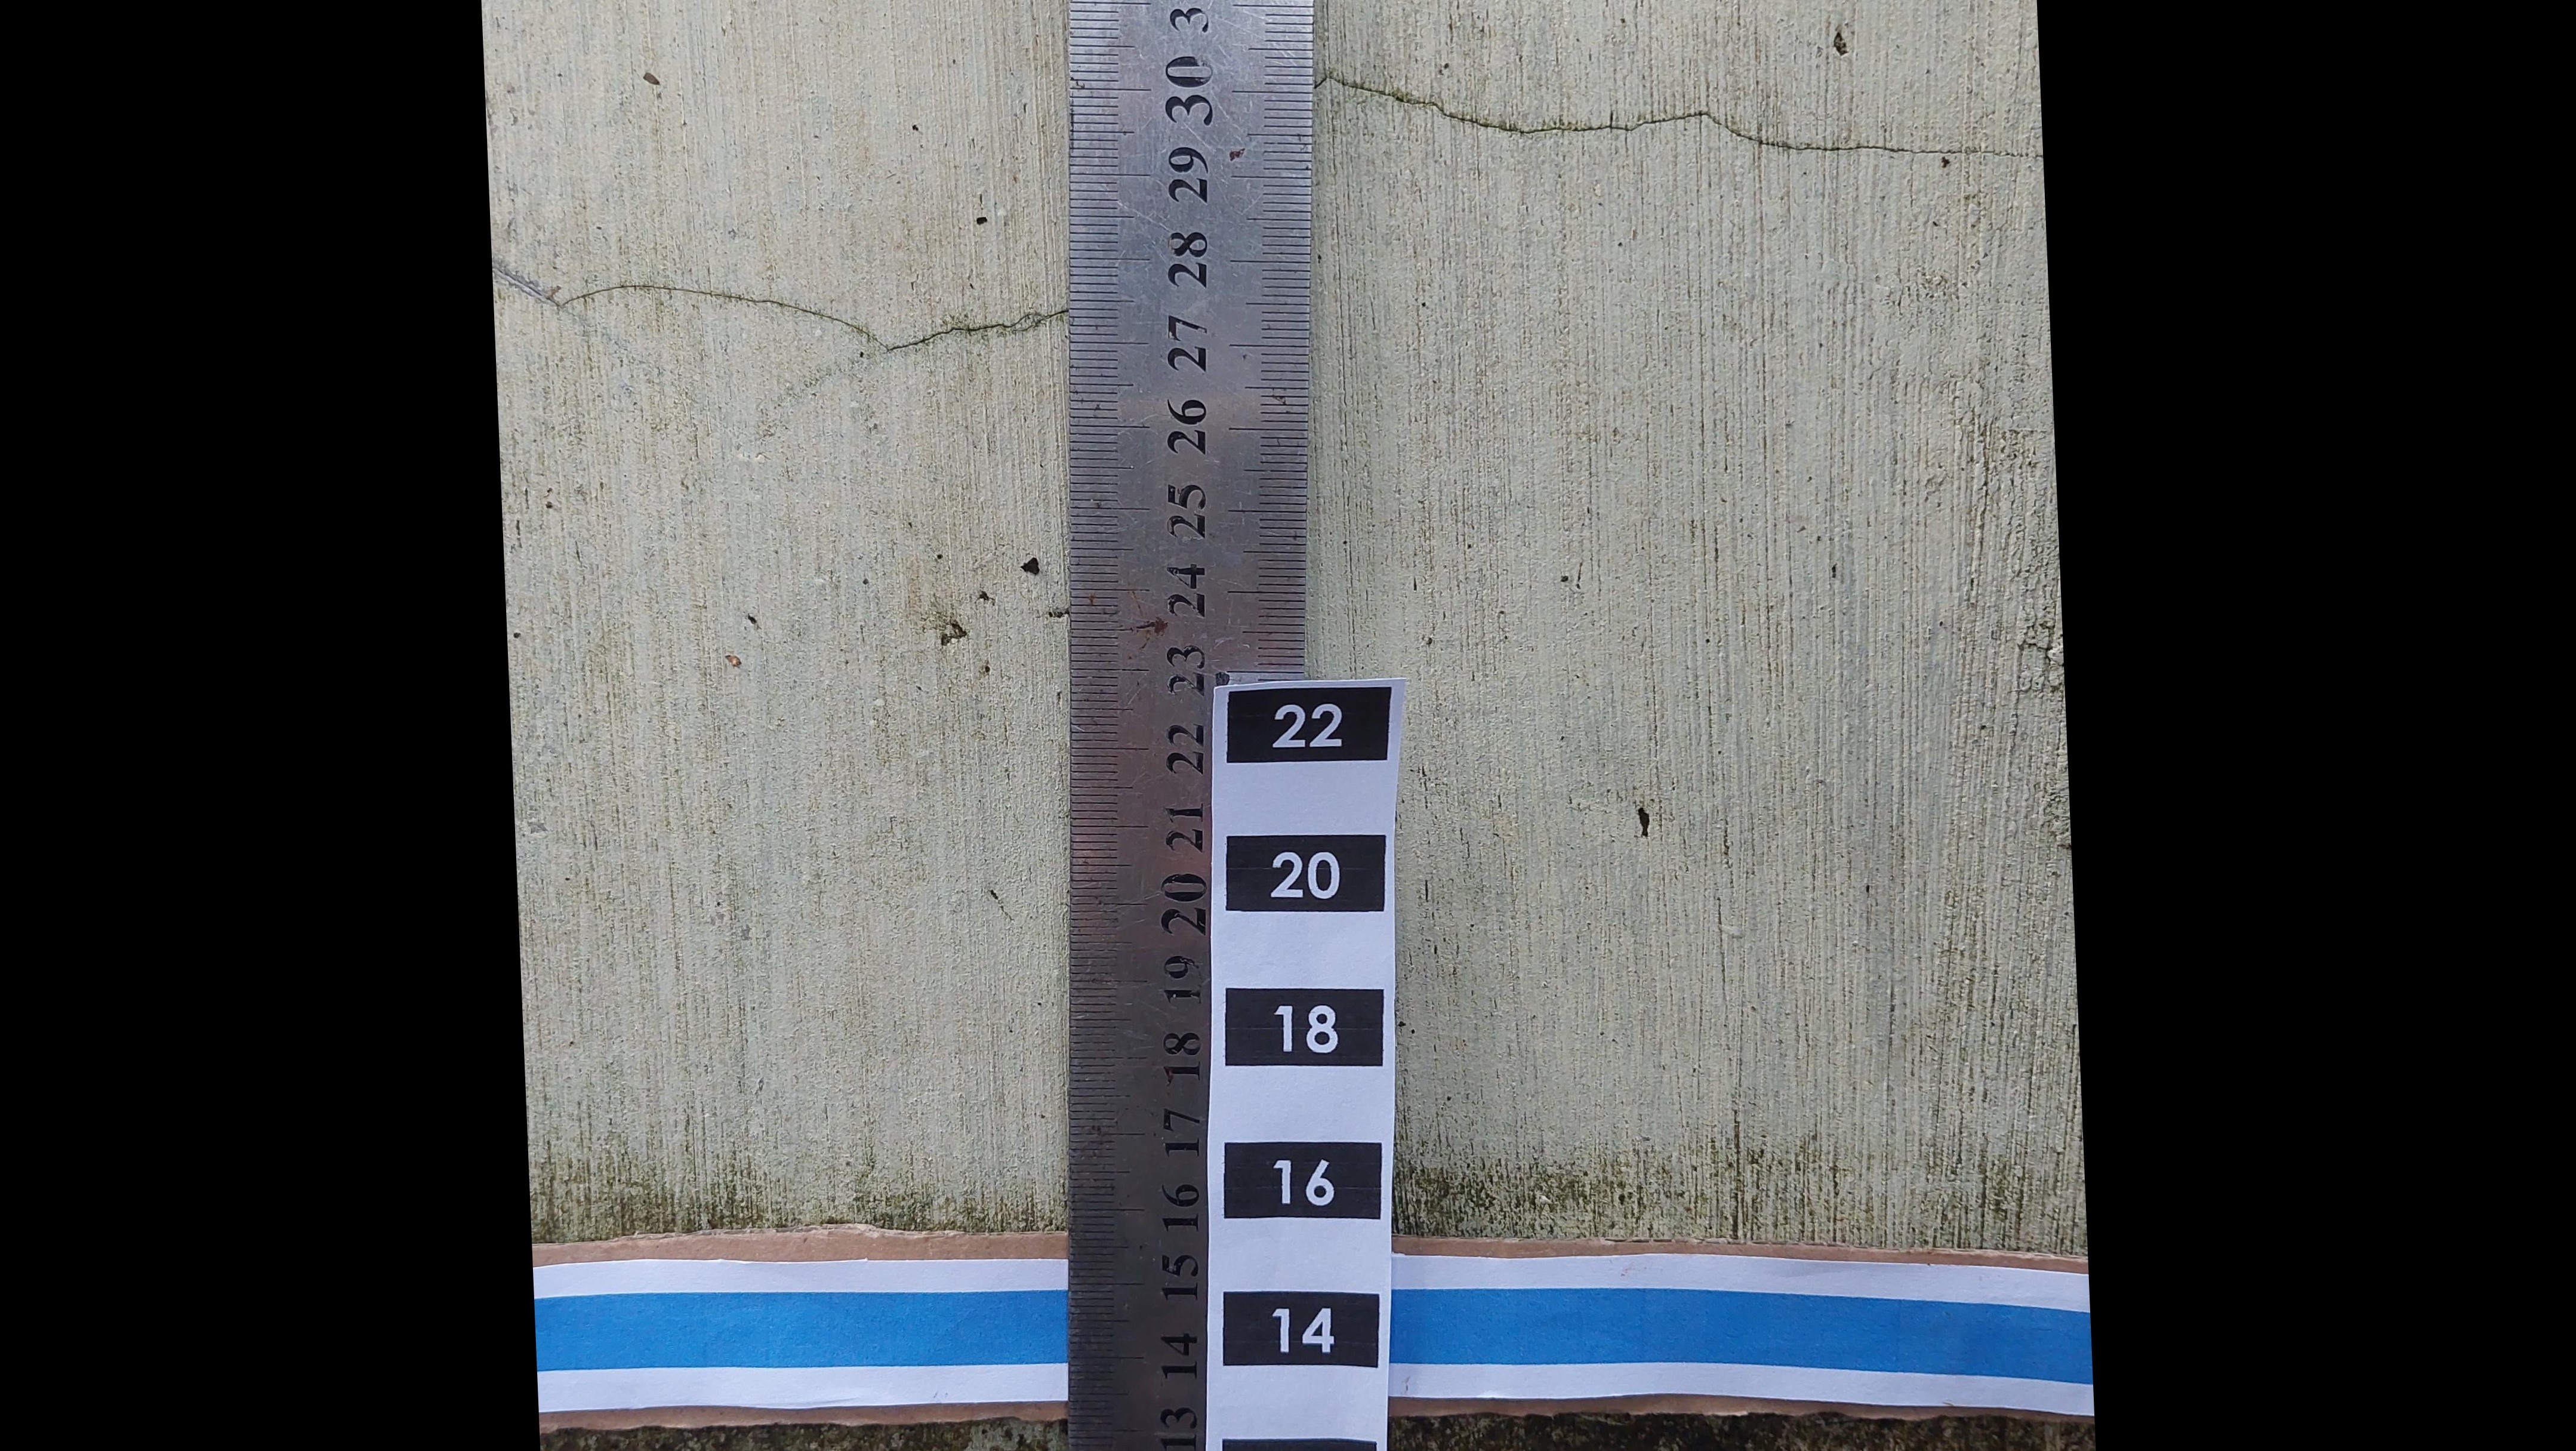kotak_2x1: (1226, 986, 1385, 1063), (1221, 1143, 1382, 1219), (1228, 837, 1387, 913), (1226, 690, 1385, 764), (1224, 1292, 1380, 1366)
